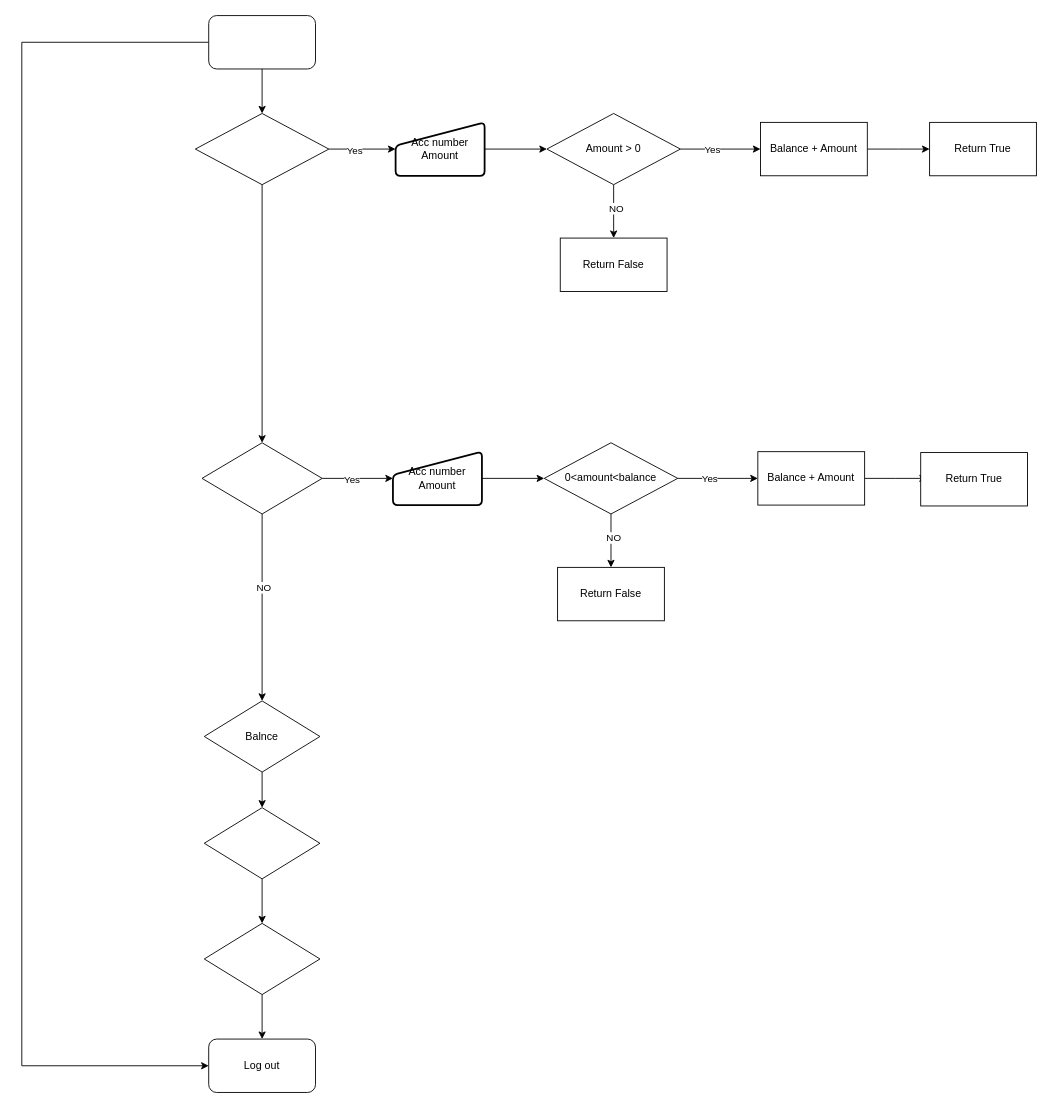
The diagram is 1052 pixels wide and 1108 high, and some of its shapes have lost their labels. The shapes that lost their labels are listed below. From the top down, each one's centre as x and y in pixels, then its label:
(x=262, y=42): Login
(x=261, y=149): Deposit
(x=261, y=478): Withdrwal
(x=261, y=843): Create Account
(x=261, y=958): Quit
